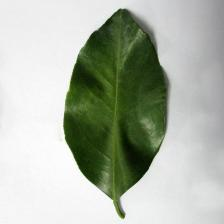healthy: (64, 9, 172, 200)
